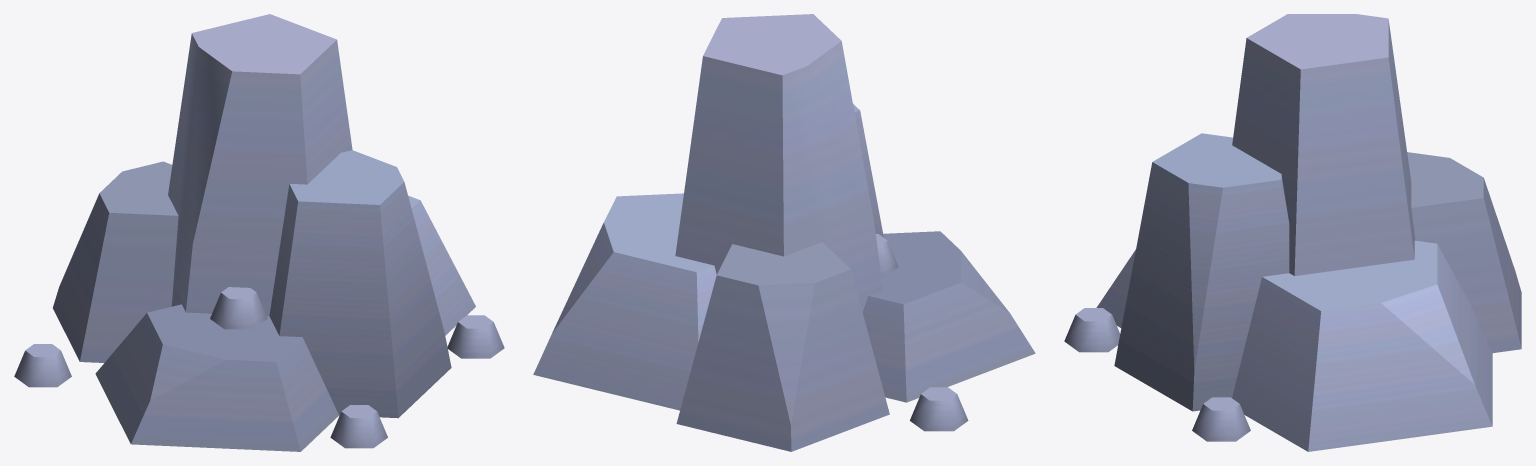
The model's file is rock-large.glb.
3 views of the same model, side by side, from view 1: azimuth 30°, elevation 25°; view 2: azimuth 150°, elevation 25°; view 3: azimuth 270°, elevation 25° (orthographic). The views are drawn at different scales.
Visible parts, largest first — view 1: rock-large; view 2: rock-large; view 3: rock-large.
Boxes of the visible parts, bbox=[...] form: rock-large: bbox=[14, 14, 504, 451]; rock-large: bbox=[533, 14, 1035, 451]; rock-large: bbox=[1064, 14, 1521, 451].
Size of the model in its own units: 1.67 by 1.16 by 1.55.
Materials: 1 (1 with a texture image).
